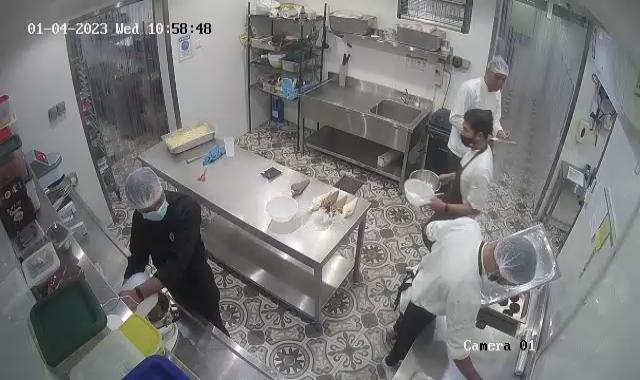hairnet: (492, 234, 538, 289), (125, 165, 168, 212), (484, 55, 512, 81)
no_hairnet: (462, 106, 493, 138)
